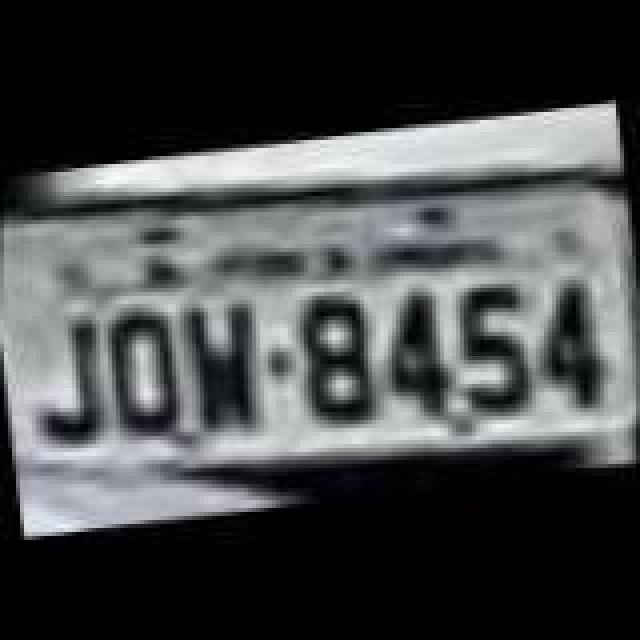4: (370, 282, 470, 426), (532, 278, 620, 418)
5: (448, 276, 544, 420)
8: (296, 288, 384, 424)
J: (16, 320, 108, 448)
O: (100, 306, 188, 438)
W: (180, 294, 268, 438)
